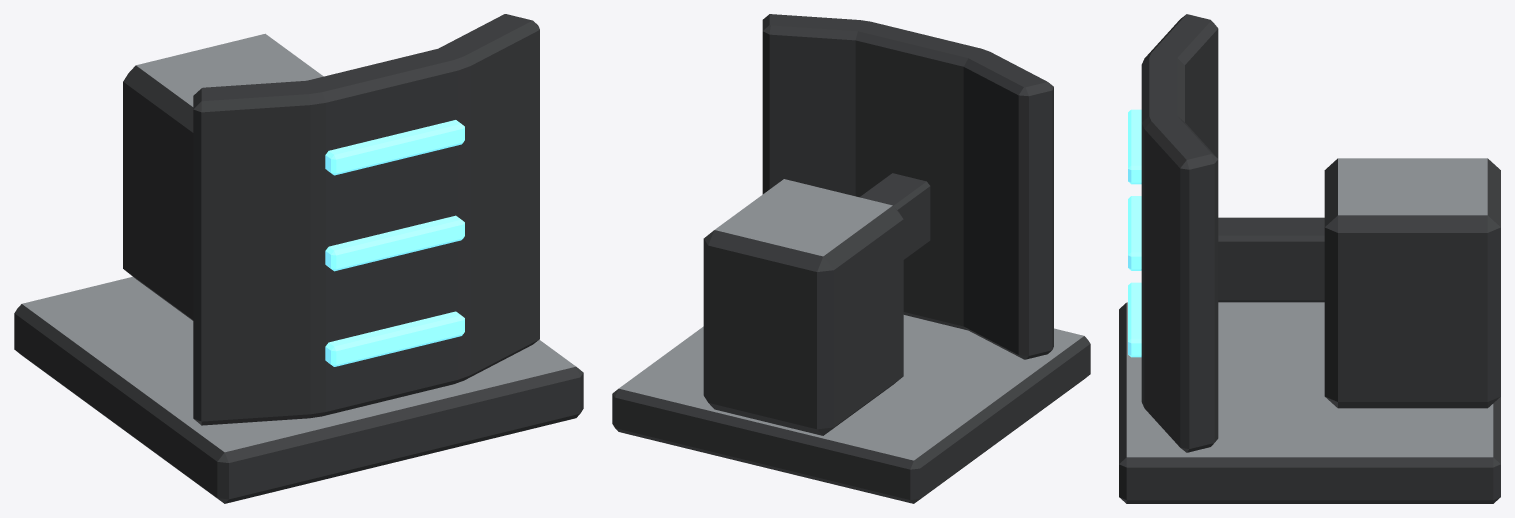
The model's file is R4X_DirectionalShield_LOD1.fbx.
3 views of the same model, side by side, from view 1: azimuth 30°, elevation 25°; view 2: azimuth 150°, elevation 25°; view 3: azimuth 270°, elevation 25° (orthographic). The views are drawn at different scales.
Parts seen in each view (by area): view 1: R4X_DirectionalShield_LOD1; view 2: R4X_DirectionalShield_LOD1; view 3: R4X_DirectionalShield_LOD1.
Boxes of the visible parts, box(x1,y1,x2,y2) form: R4X_DirectionalShield_LOD1: box(14, 14, 583, 503); R4X_DirectionalShield_LOD1: box(612, 14, 1090, 503); R4X_DirectionalShield_LOD1: box(1119, 14, 1500, 503).
Bounding box in the file's own units: 0.52 × 0.51 × 0.52.
